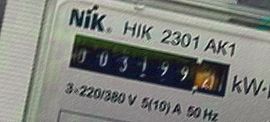0: (76, 44, 90, 64), (98, 47, 111, 67)
1: (140, 52, 151, 72)
3: (119, 53, 130, 73)
6: (201, 75, 212, 92)
9: (179, 64, 191, 83), (160, 58, 170, 77)
screen: (62, 28, 240, 105)
